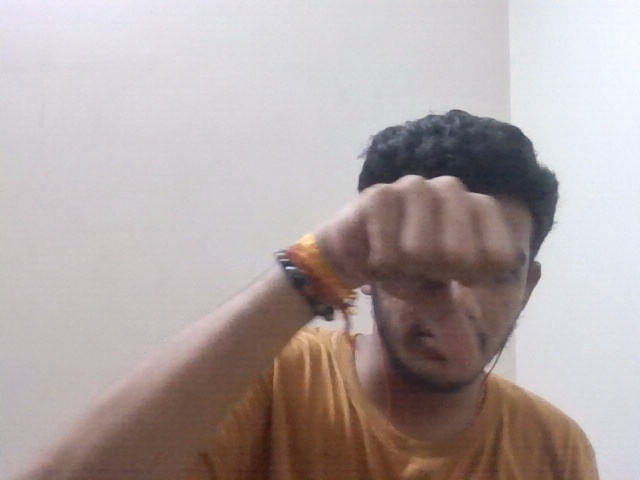yes: (332, 165, 522, 401)
